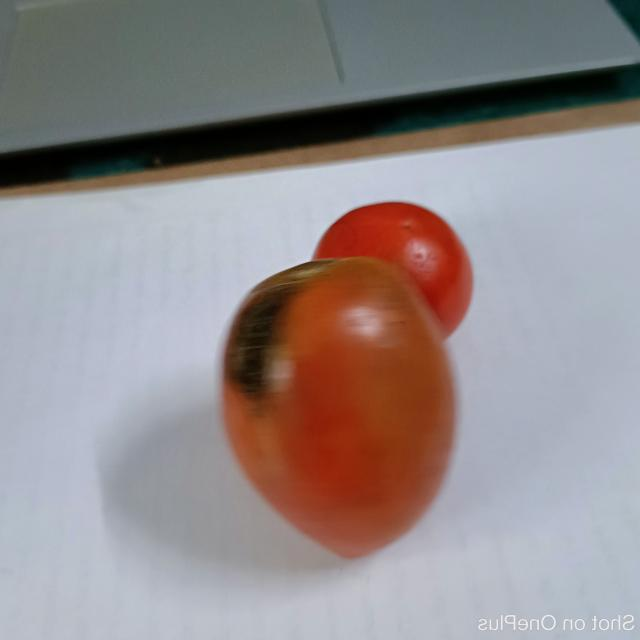Anthrocnose: (217, 253, 321, 406)
